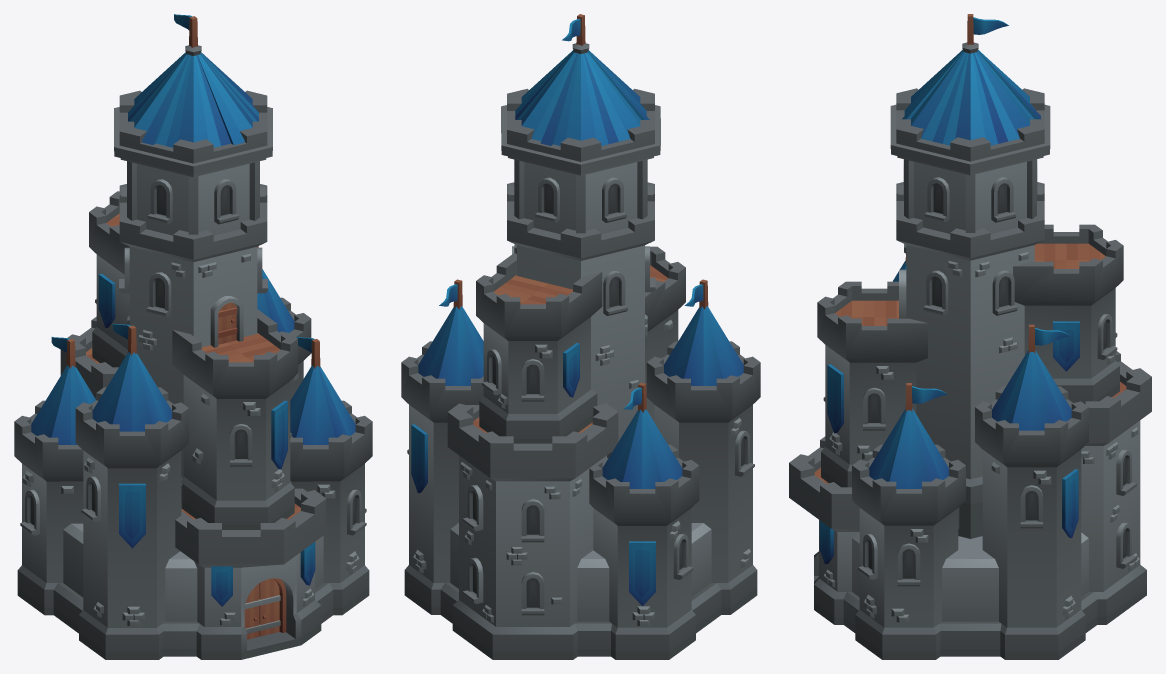
File: H_castle_blue.glb
3 views of the same model, side by side, from view 1: azimuth 30°, elevation 25°; view 2: azimuth 150°, elevation 25°; view 3: azimuth 270°, elevation 25° (orthographic).
Visible parts, largest first — view 1: building_castle_blue; view 2: building_castle_blue; view 3: building_castle_blue.
Part boxes in pixels (x1,y1,x2,y2): building_castle_blue: (14,14,372,659); building_castle_blue: (401,14,760,659); building_castle_blue: (789,14,1151,659).
Bounding box in the file's own units: 1.98 × 3.98 × 2.26.
